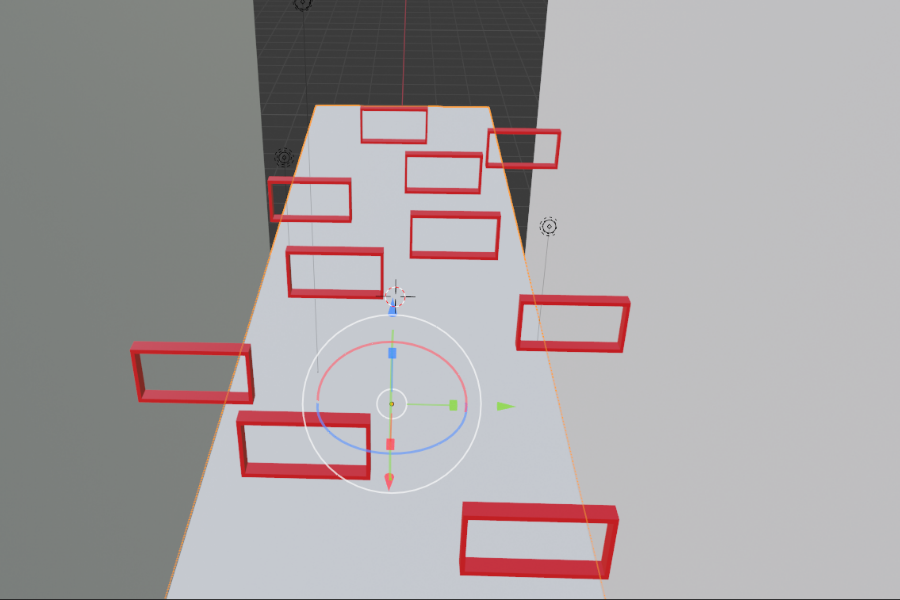GATE: (453, 499, 620, 583), (233, 411, 374, 485), (127, 339, 258, 407), (515, 294, 630, 351), (282, 248, 385, 301), (408, 207, 499, 258), (265, 180, 354, 221), (401, 153, 480, 193), (491, 124, 561, 169), (357, 110, 431, 144)
